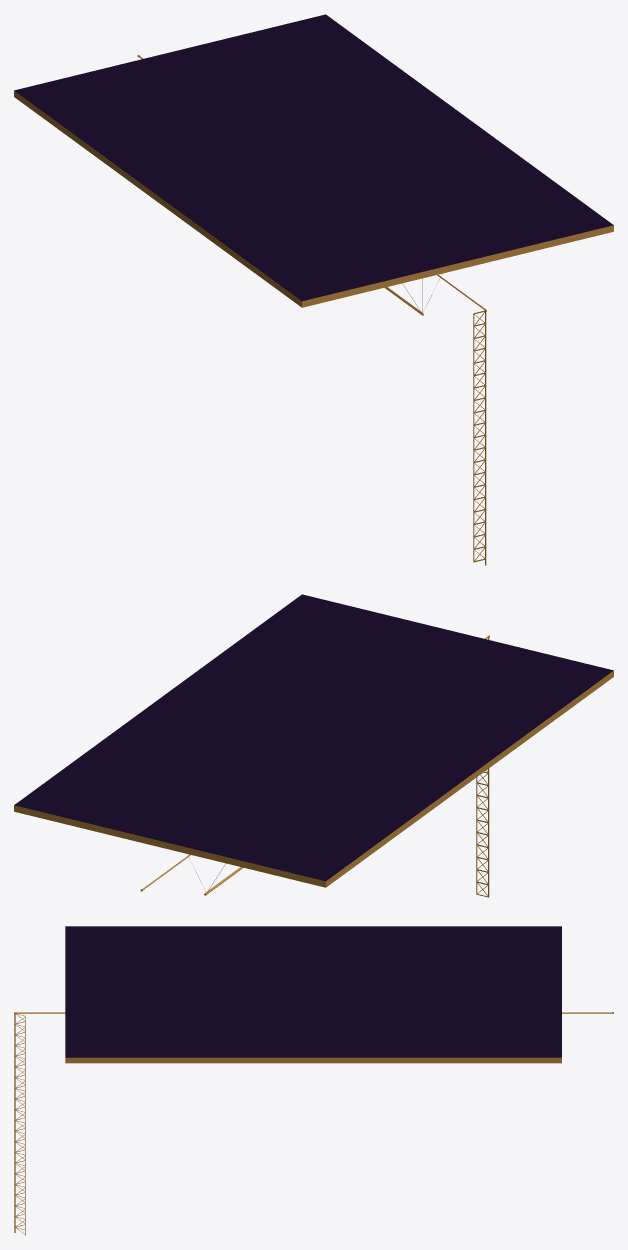
Rendered from Solar_Panel_Unit.glb.
The picture shows the model from 3 angles, top to bottom: view 1: azimuth 30°, elevation 25°; view 2: azimuth 150°, elevation 25°; view 3: azimuth 270°, elevation 25°; orthographic projection. The views are drawn at different scales.
Visible parts, largest first — view 1: SolarPanel_LOD0, Truss_Tower_SolarPanels_LOD0; view 2: SolarPanel_LOD0, Truss_Tower_SolarPanels_LOD0; view 3: SolarPanel_LOD0, Truss_Tower_SolarPanels_LOD0.
Part boxes in pixels (<box>): SolarPanel_LOD0: <box>14,14,613,315</box>; Truss_Tower_SolarPanels_LOD0: <box>137,55,486,565</box>; SolarPanel_LOD0: <box>14,594,613,895</box>; Truss_Tower_SolarPanels_LOD0: <box>140,635,489,897</box>; SolarPanel_LOD0: <box>65,926,561,1063</box>; Truss_Tower_SolarPanels_LOD0: <box>14,1012,613,1235</box>.
Size of what is drawn, in the model's own units: 25 by 21.46 by 48.32.
